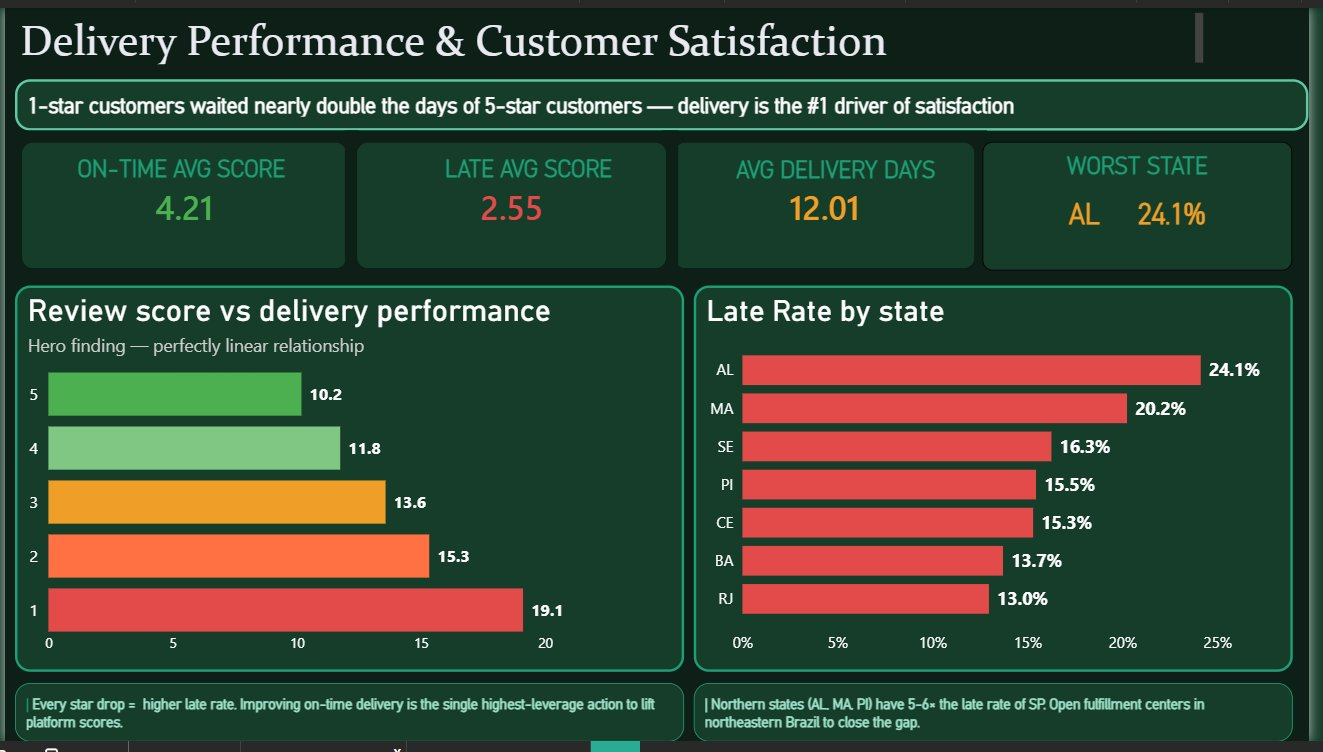

Layout of this report page (visuals, bound fields, positions):
{"tool":"powerbi","page":{"name":"Delivery Analysis","canvas":[1280,720],"ordinal":1},"visuals":[{"type":"textbox","box":[9.8,0,1171.8,60.1],"z":0},{"type":"textbox","box":[9.8,69.9,1269.9,50.3],"z":1000},{"type":"cardVisual","fields":{"Data":["Avg(clean_orders.delivery_days)"]},"box":[640.5,115.3,328.8,157.1],"z":2000},{"type":"clusteredBarChart","title":"Review score vs delivery performance","fields":{"Y":["Avg(clean_orders.delivery_days)"],"Category":["clean_orders.review_score"]},"box":[9.8,272.4,656.4,379.1],"z":3000},{"type":"clusteredBarChart","title":"Late Rate by state","fields":{"Category":["clean_orders.customer_state"],"Y":["clean_orders.Late Rate"]},"box":[676.1,272.4,587.7,379.1],"z":4000},{"type":"cardVisual","fields":{"Data":["clean_orders.On Time Avg Score"]},"box":[0,115.3,352.1,157.1],"z":5000},{"type":"textbox","box":[66.3,138.7,244.2,40.5],"z":6000},{"type":"cardVisual","fields":{"Data":["clean_orders.Late Avg Score"]},"box":[328.8,115.3,337.4,157.1],"z":7000},{"type":"textbox","box":[427,138.7,195.1,44.2],"z":8000},{"type":"textbox","box":[712.9,139.9,227,42.9],"z":9000},{"type":"textbox","box":[959.5,131.3,304.3,126.4],"z":10000},{"type":"textbox","box":[9.8,662.6,656.4,57.7],"z":11000},{"type":"textbox","box":[676.1,662.6,587.7,57.7],"z":12000}]}

Visuals, with their boxes in screenshot pixels (x1, y1, x2, y2), scaled from the page's 1280x720 canvas onto the 1323x752 screenshot:
textbox: x1=10 y1=0 x2=1221 y2=63
textbox: x1=10 y1=73 x2=1322 y2=126
cardVisual - Avg(clean_orders.delivery_days): x1=662 y1=120 x2=1002 y2=285
"Review score vs delivery performance" clusteredBarChart: x1=10 y1=285 x2=689 y2=680
"Late Rate by state" clusteredBarChart: x1=699 y1=285 x2=1306 y2=680
cardVisual - clean_orders.On Time Avg Score: x1=0 y1=120 x2=364 y2=285
textbox: x1=69 y1=145 x2=321 y2=187
cardVisual - clean_orders.Late Avg Score: x1=340 y1=120 x2=689 y2=285
textbox: x1=441 y1=145 x2=643 y2=191
textbox: x1=737 y1=146 x2=971 y2=191
textbox: x1=992 y1=137 x2=1306 y2=269
textbox: x1=10 y1=692 x2=689 y2=751
textbox: x1=699 y1=692 x2=1306 y2=751
